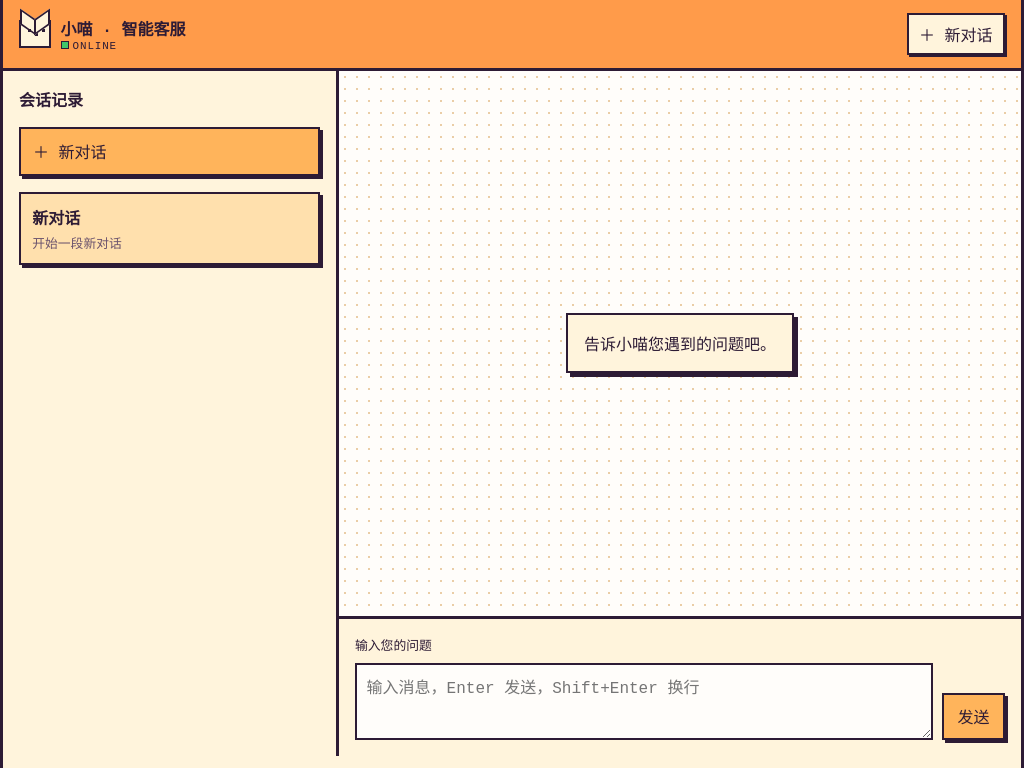
Test: App › keeps a session preview on the latest user message after assistant updates
In the text box labelled "输入您的问题": point(644, 701) 355,663 -> 933,740, type "我要申请退款"
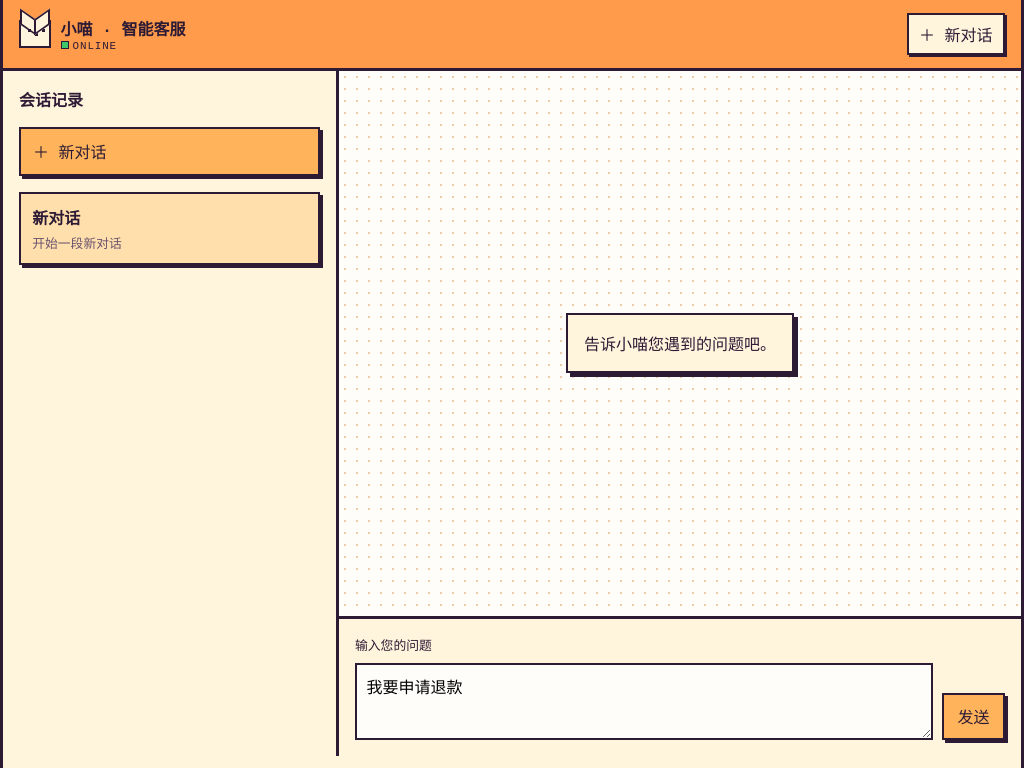
Submit the form, box 339,616 -> 1021,756
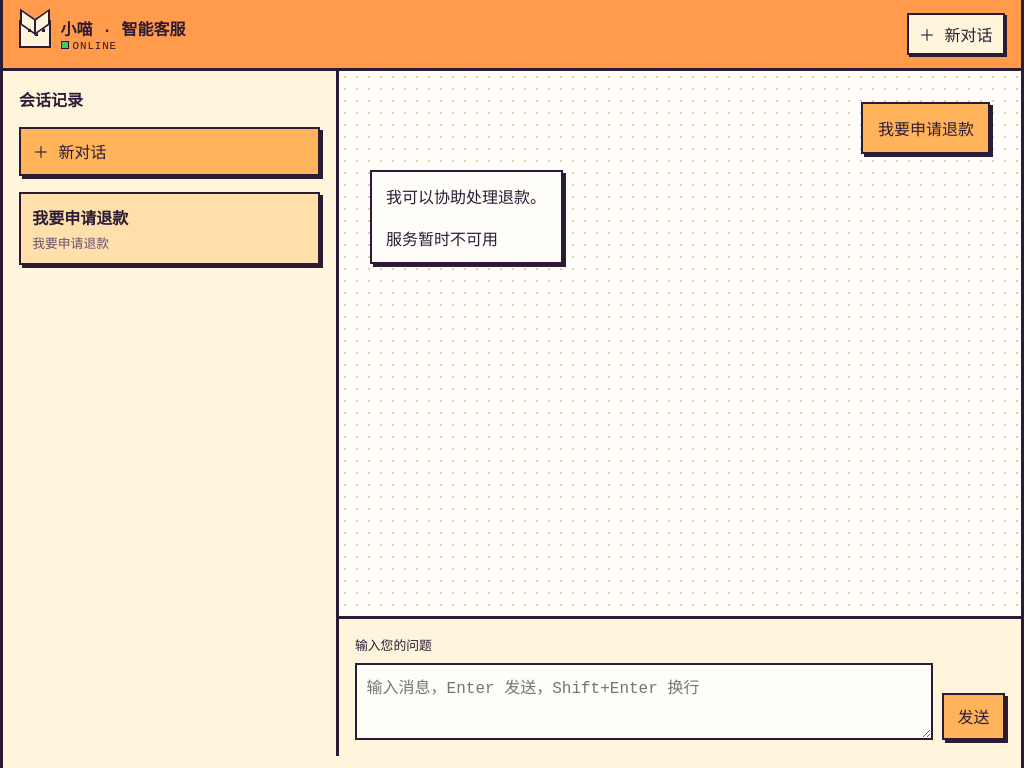
expect the 2nd text "我要申请退款" is shown: met, box 32,211 -> 128,229
